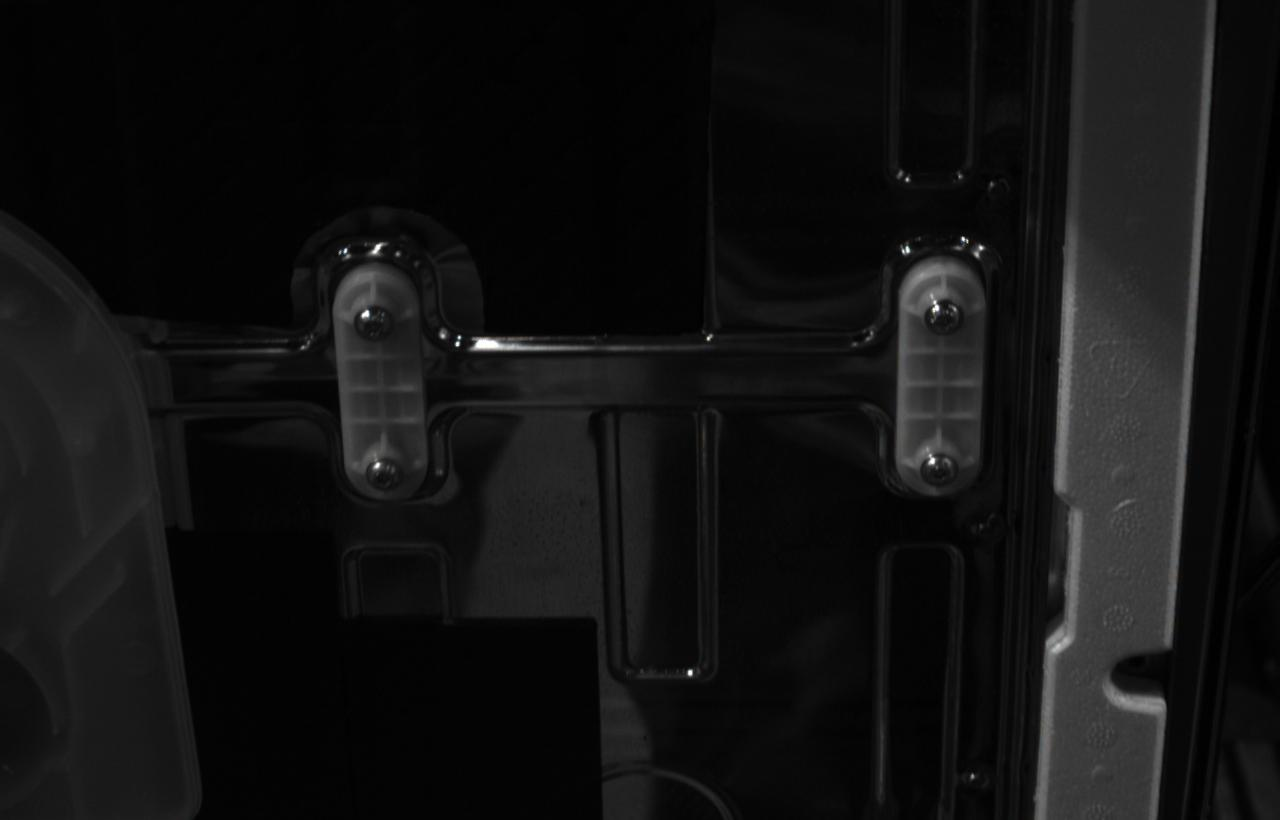vida-ok: (353, 305, 396, 343), (365, 456, 403, 493), (925, 301, 964, 335), (920, 454, 959, 487)
